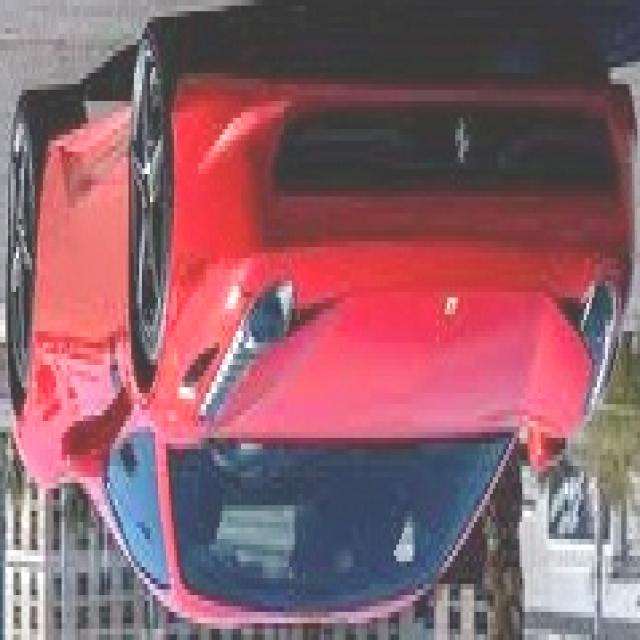red: (0, 0, 638, 623)
